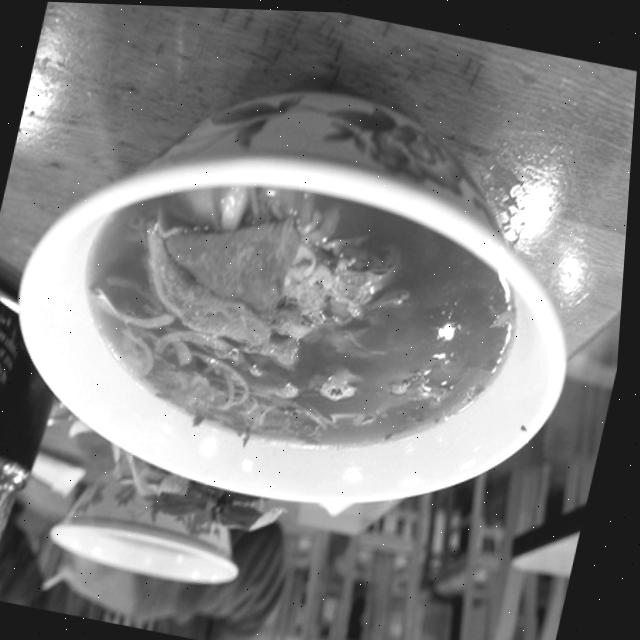面条主食: (51, 146, 544, 488)
